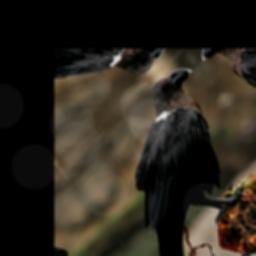Crow: (64, 60, 256, 256)
